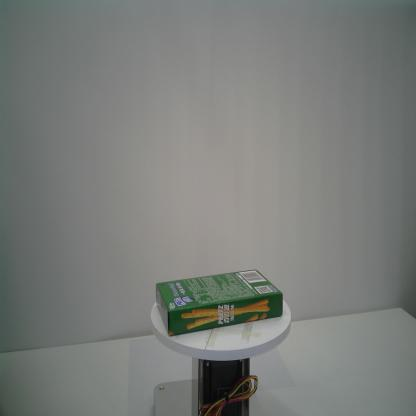Dessert: (155, 269, 284, 337)
